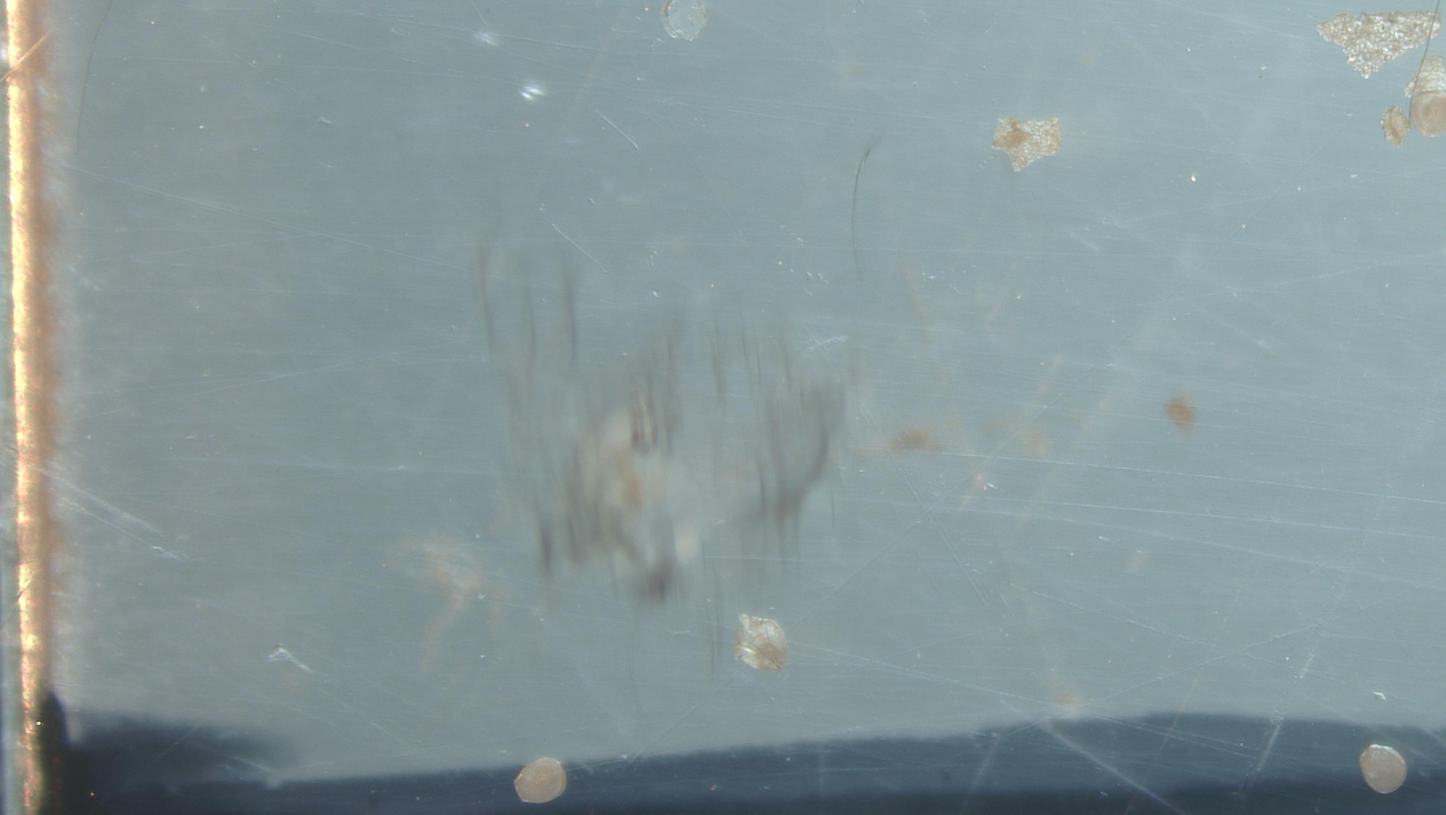dead: (735, 613, 787, 672), (662, 0, 707, 40)
live: (1359, 744, 1408, 794), (514, 757, 567, 803)
